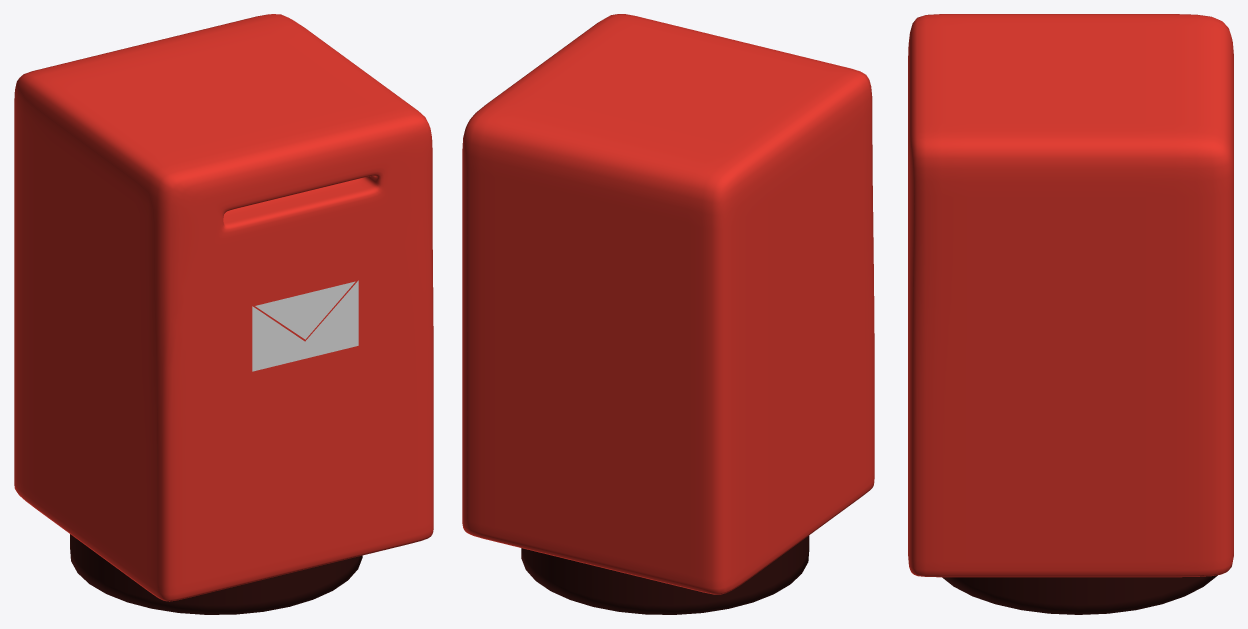
File: postbox.glb
3 views of the same model, side by side, from view 1: azimuth 30°, elevation 25°; view 2: azimuth 150°, elevation 25°; view 3: azimuth 270°, elevation 25° (orthographic). The views are drawn at different scales.
Visible parts, largest first — view 1: Cube.007, Cylinder, lettericon; view 2: Cube.007, Cylinder; view 3: Cube.007, Cylinder.
Part boxes in pixels (box(x1,y1,x2,y2)): Cube.007: box(14, 14, 433, 601); Cylinder: box(70, 534, 362, 614); lettericon: box(252, 280, 358, 371); Cube.007: box(462, 14, 874, 594); Cylinder: box(521, 535, 809, 614); Cube.007: box(908, 14, 1233, 577); Cylinder: box(942, 575, 1217, 614).
Bounding box in the file's own units: 28.62 × 46.59 × 29.07.
